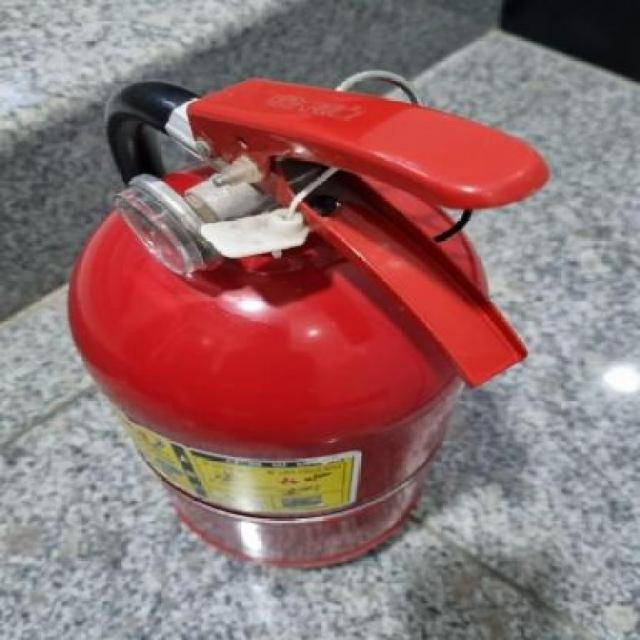fire extinguisher: (67, 69, 551, 569)
